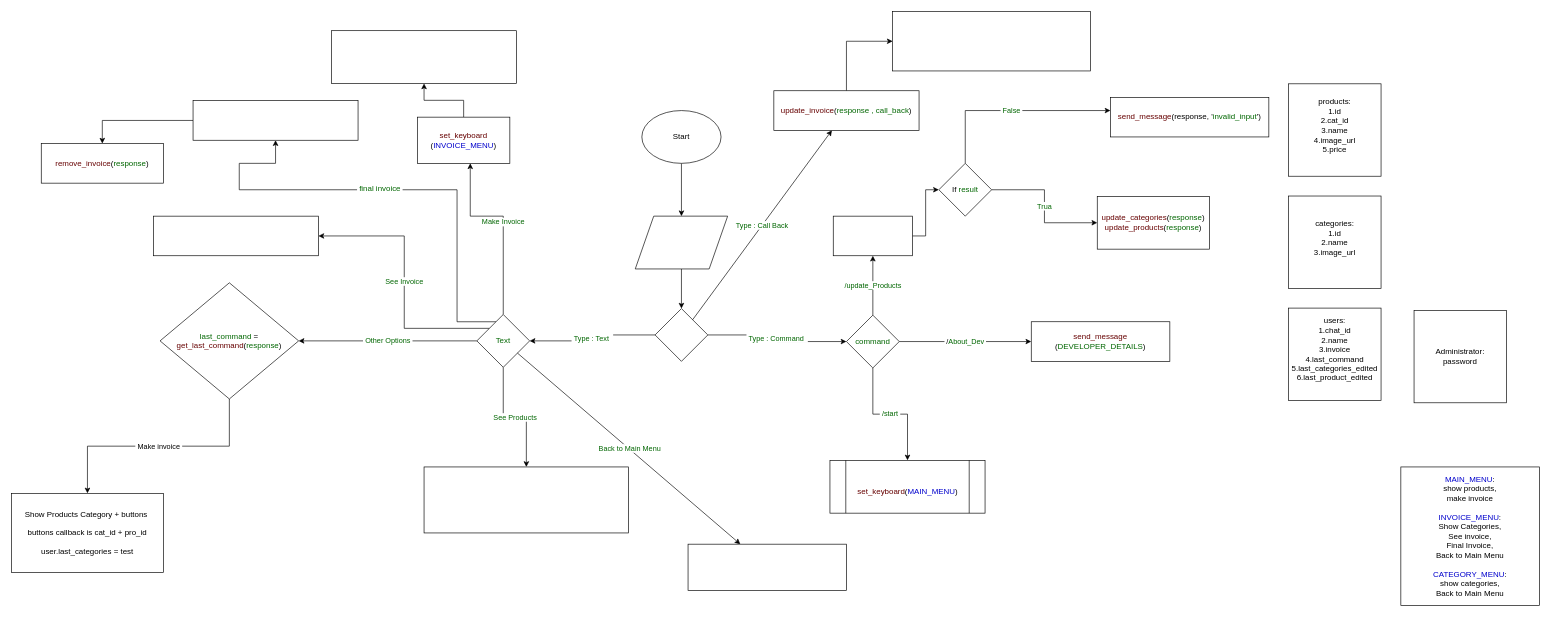
The diagram is 1551 pixels wide and 617 high, and some of its shapes have lost their labels. The shapes that lost their labels are listed below. From the top down, each one's box as (x1, y1, x2, y2) in pixels, then its label:
(331, 30, 516, 83): set_last_command (response , make_invoice)
(892, 11, 1091, 71): edit_message ( response, message_id, new_text )
(192, 100, 358, 140): make_invoice ( response , option:finaly )
(153, 215, 318, 256): make_invoice ( response , option:temporary )
(635, 215, 728, 269): Get input from user
(833, 215, 912, 256): result = validation ( response )
(654, 308, 708, 361): Input
(423, 466, 629, 533): set_keyboard ( CATEGORY_MENU ) set_last_command ( response, see_products )
(687, 544, 846, 590): set_keyboard ( MAIN_MENU ) set_last_command ( response, NULL )
